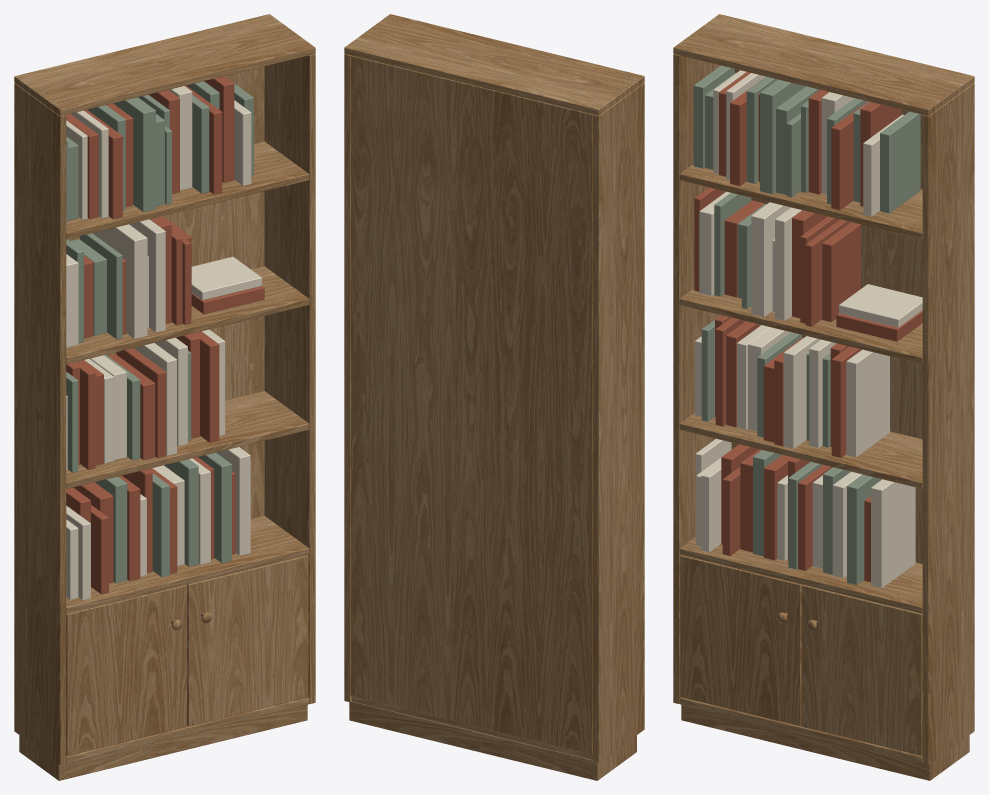
The model's file is libreria_alta_roble.glb.
The picture shows the model from 3 angles, left to right: view 1: azimuth 30°, elevation 25°; view 2: azimuth 150°, elevation 25°; view 3: azimuth 330°, elevation 25°; orthographic projection.
Visible parts, largest first — view 1: libreria_alta_roble; view 2: libreria_alta_roble; view 3: libreria_alta_roble.
Part boxes in pixels (bbox=[...]): libreria_alta_roble: bbox=[14, 14, 315, 780]; libreria_alta_roble: bbox=[344, 14, 644, 780]; libreria_alta_roble: bbox=[673, 14, 974, 780].
Bounding box in the file's own units: 0.8 × 2.02 × 0.2779.
Materials: 4 (1 with a texture image).
